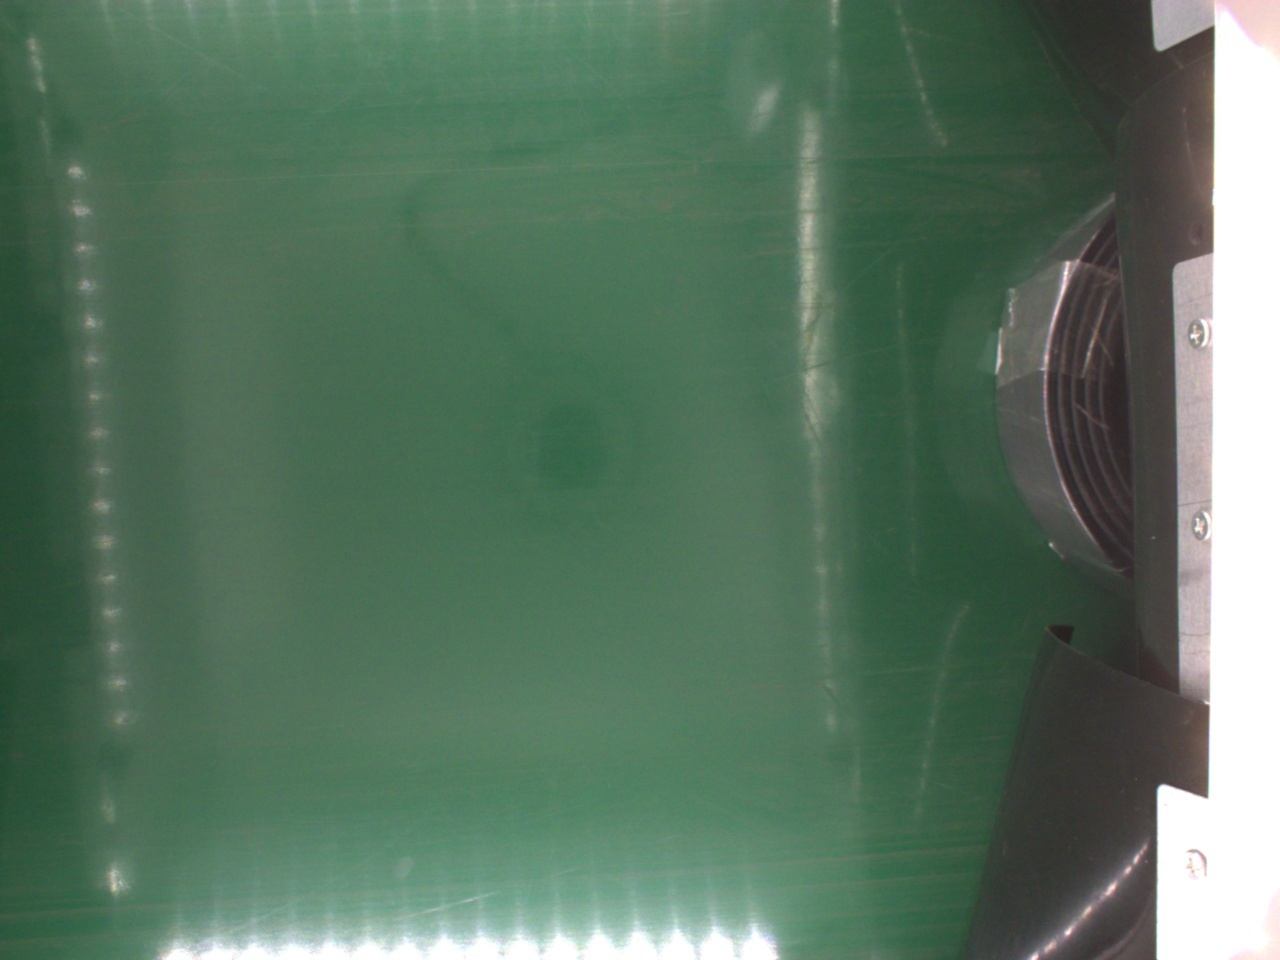black: (994, 189, 1143, 581)
